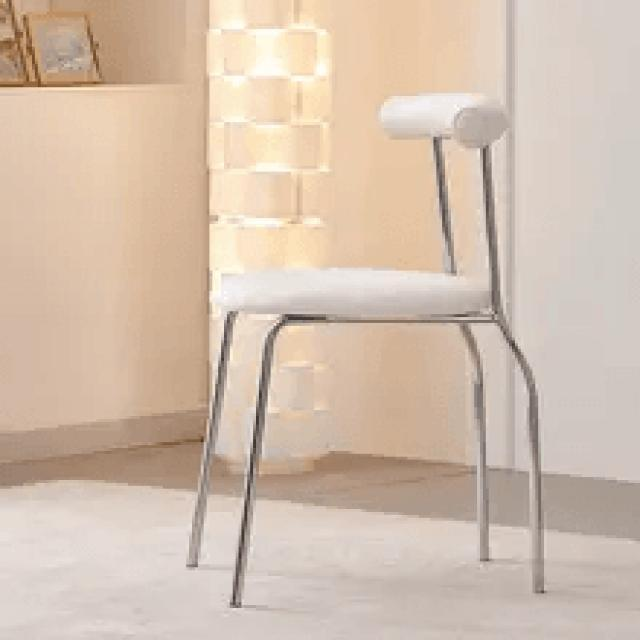chair: (182, 80, 554, 616), (186, 64, 564, 368)
